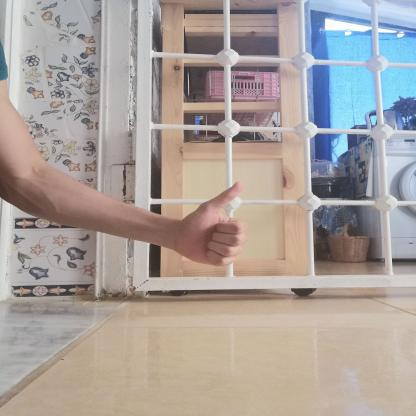ALIF: (161, 174, 264, 272)
